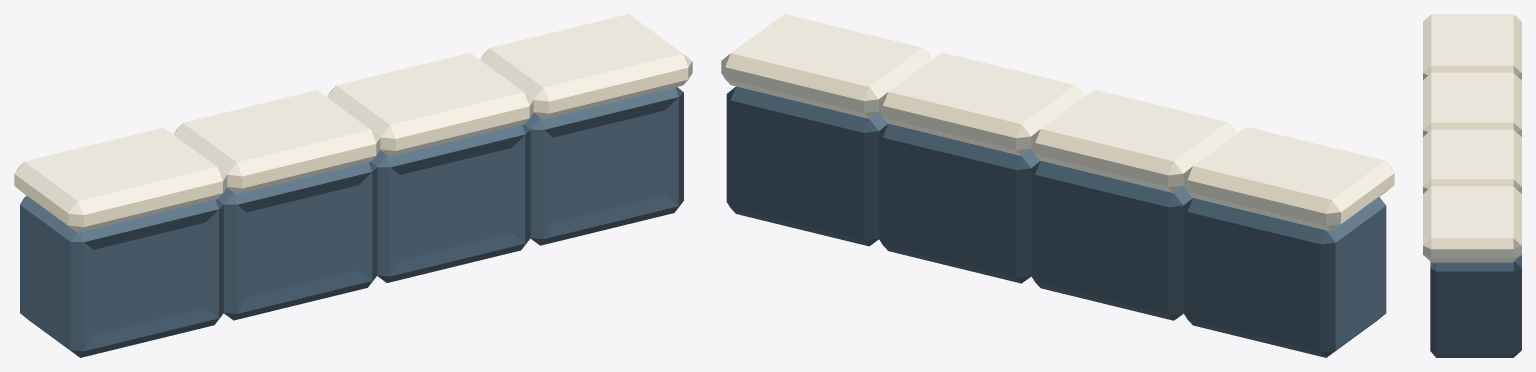
File: Terrain_TopRun4LR.gltf
The picture shows the model from 3 angles, left to right: view 1: azimuth 30°, elevation 25°; view 2: azimuth 150°, elevation 25°; view 3: azimuth 270°, elevation 25°; orthographic projection. The views are drawn at different scales.
Parts seen in each view (by area): view 1: Terrain_TopRun4LR_baked; view 2: Terrain_TopRun4LR_baked; view 3: Terrain_TopRun4LR_baked.
Part boxes in pixels (x1=…): Terrain_TopRun4LR_baked: x1=14, y1=14, x2=692, y2=357; Terrain_TopRun4LR_baked: x1=721, y1=14, x2=1394, y2=357; Terrain_TopRun4LR_baked: x1=1423, y1=14, x2=1521, y2=357.
Bounding box in the file's own units: 4.07 × 1 × 0.735.
